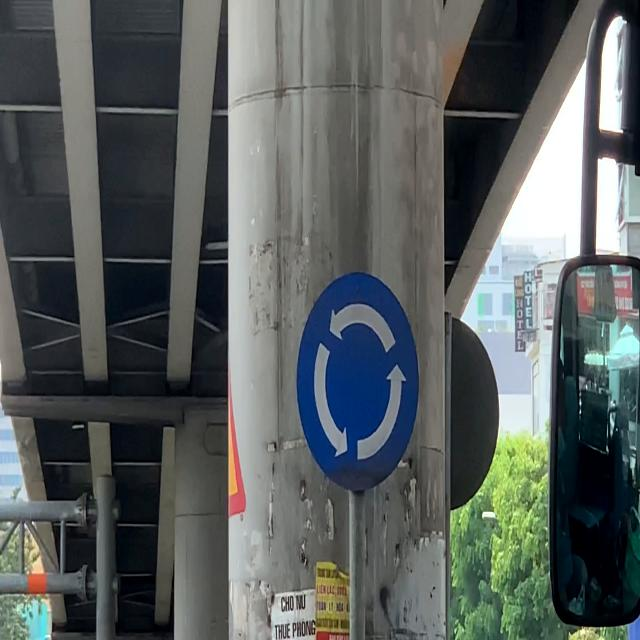R.303: (296, 269, 421, 492)
